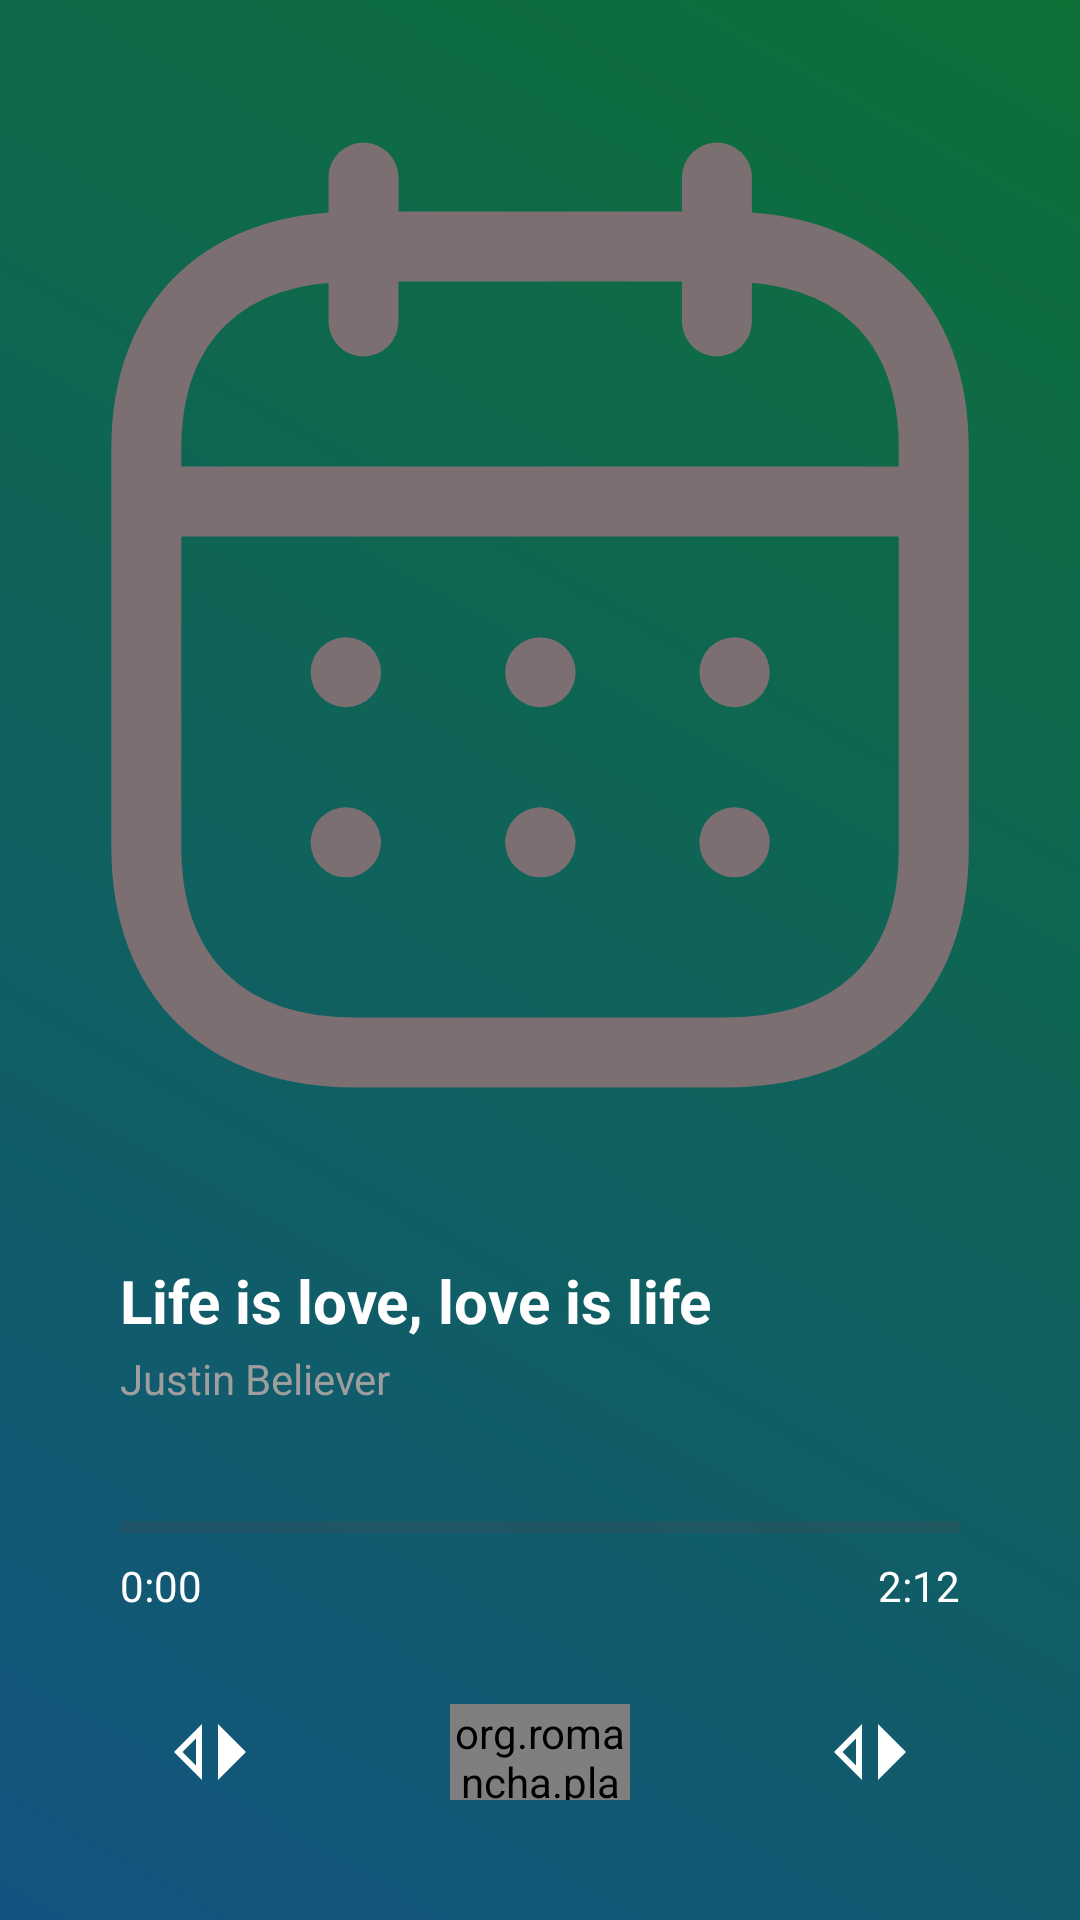

Named icons in this screenshot (1080 x 1920) and their bounding boxes, (x1, y1, x2, y2):
switch left: (174, 1724, 246, 1780), (834, 1724, 906, 1780)
